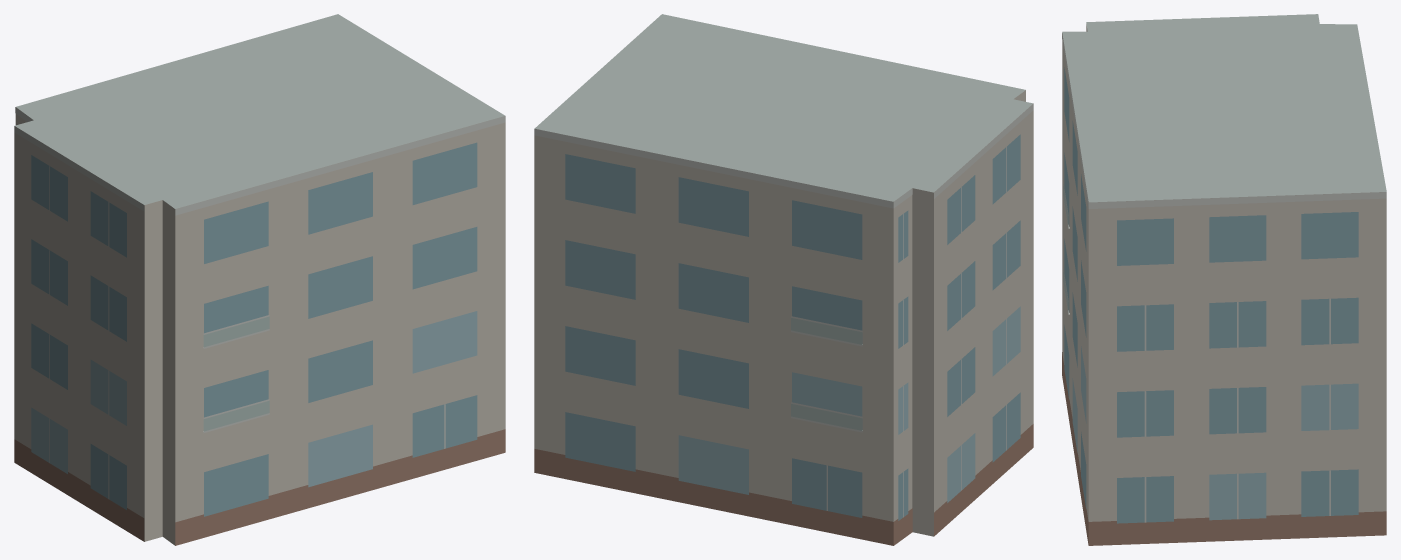
File: survey-upis-32562083.glb
The picture shows the model from 3 angles, left to right: view 1: azimuth 30°, elevation 25°; view 2: azimuth 150°, elevation 25°; view 3: azimuth 270°, elevation 25°; orthographic projection. The views are drawn at different scales.
Parts seen in each view (by area): view 1: survey-upis-32562083.tmp; view 2: survey-upis-32562083.tmp; view 3: survey-upis-32562083.tmp.
Part boxes in pixels (x1,y1,x2,y2): survey-upis-32562083.tmp: (14, 14, 505, 545); survey-upis-32562083.tmp: (534, 14, 1033, 545); survey-upis-32562083.tmp: (1062, 14, 1386, 545).
Bounding box in the file's own units: 14.72 × 12.5 × 10.72.
